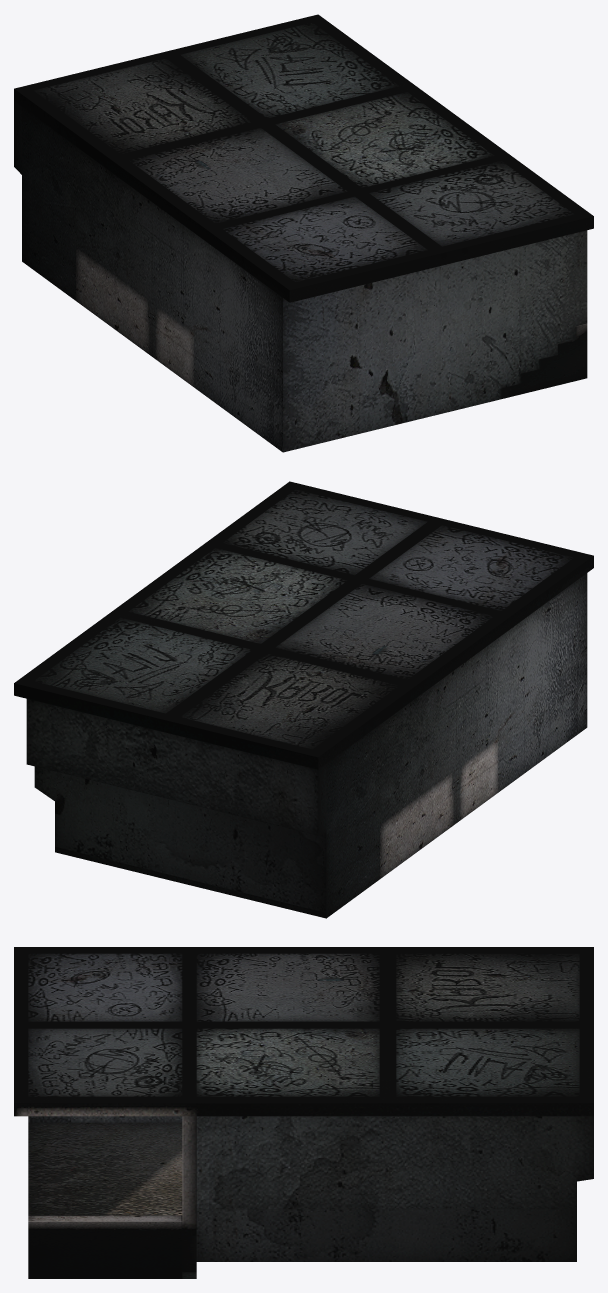
Rendered from Paris.FBX.
The picture shows the model from 3 angles, top to bottom: view 1: azimuth 30°, elevation 25°; view 2: azimuth 150°, elevation 25°; view 3: azimuth 270°, elevation 25°; orthographic projection. The views are drawn at different scales.
Visible parts, largest first — view 1: Paris; view 2: Paris; view 3: Paris.
Part boxes in pixels (x1,y1,x2,y2): Paris: (14,14,593,452); Paris: (14,481,593,918); Paris: (14,947,593,1278).
Bounding box in the file's own units: 302 × 159 × 475.
1 material, 1 textured.
